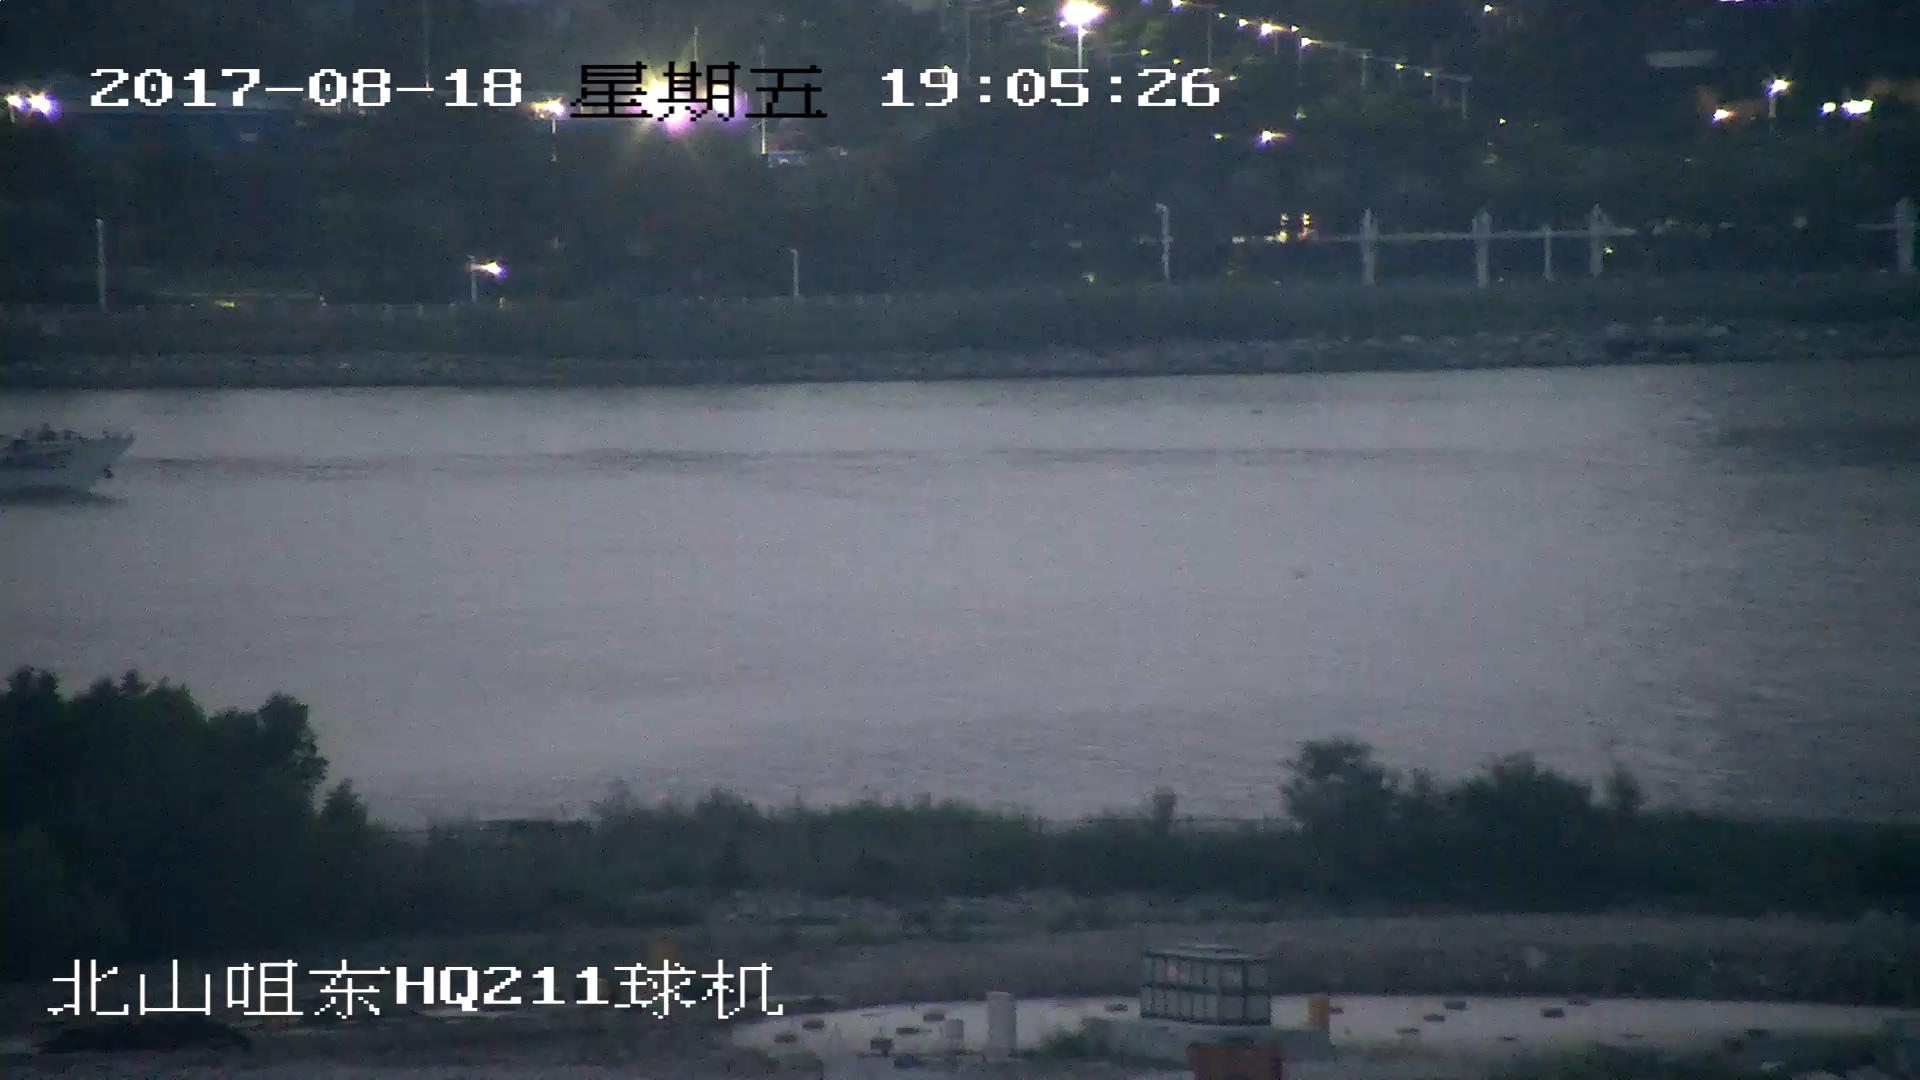passenger ship: (1, 416, 124, 506)
